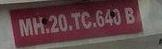0: (57, 12, 68, 31), (111, 7, 120, 25)
2: (46, 14, 59, 32)
4: (103, 8, 113, 25)
6: (94, 8, 104, 26)
B: (122, 5, 135, 24)
C: (80, 9, 91, 29)
H: (31, 15, 45, 34)
M: (15, 16, 33, 36)
T: (69, 10, 81, 29)
